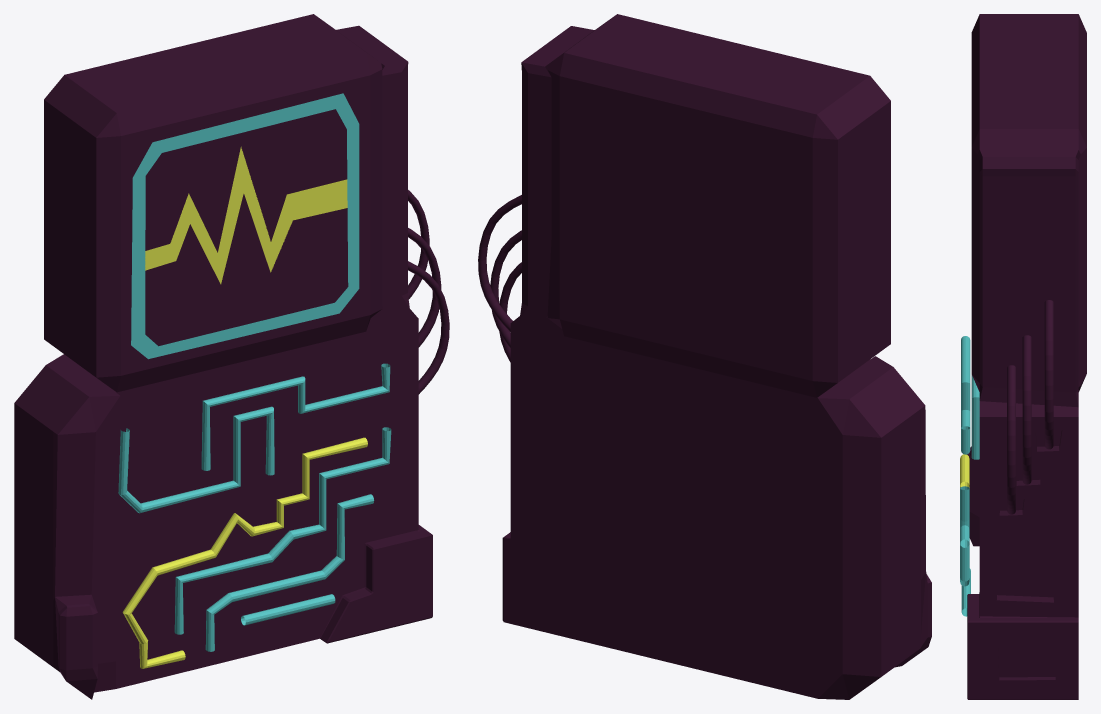
Rendered from MAQUINA1.fbx.
3 views of the same model, side by side, from view 1: azimuth 30°, elevation 25°; view 2: azimuth 150°, elevation 25°; view 3: azimuth 270°, elevation 25° (orthographic). The views are drawn at different scales.
Visible parts, largest first — view 1: Cube, Plane, Cube.001, Plane.001, Plane.004, Plane.003, Plane.002; view 2: Cube, Plane.002, Plane.003; view 3: Cube, Plane, Plane.002, Plane.003, Plane.004, Plane.001.
Boxes of the visible parts, x1,y1,x2,y2 form: Cube: [14, 14, 432, 699]; Plane: [118, 363, 391, 651]; Cube.001: [145, 146, 347, 284]; Plane.001: [122, 437, 367, 668]; Plane.004: [408, 261, 449, 394]; Plane.003: [408, 228, 441, 347]; Plane.002: [408, 190, 429, 299]; Cube: [502, 14, 931, 699]; Plane.002: [478, 195, 521, 331]; Plane.003: [490, 230, 521, 347]; Cube: [966, 14, 1086, 699]; Plane: [960, 336, 979, 616]; Plane.002: [1044, 300, 1053, 449]; Plane.003: [1022, 335, 1031, 484]; Plane.004: [1007, 365, 1015, 514]; Plane.001: [960, 454, 969, 487].
Size of the model in its own units: 772 by 1044 by 220.
